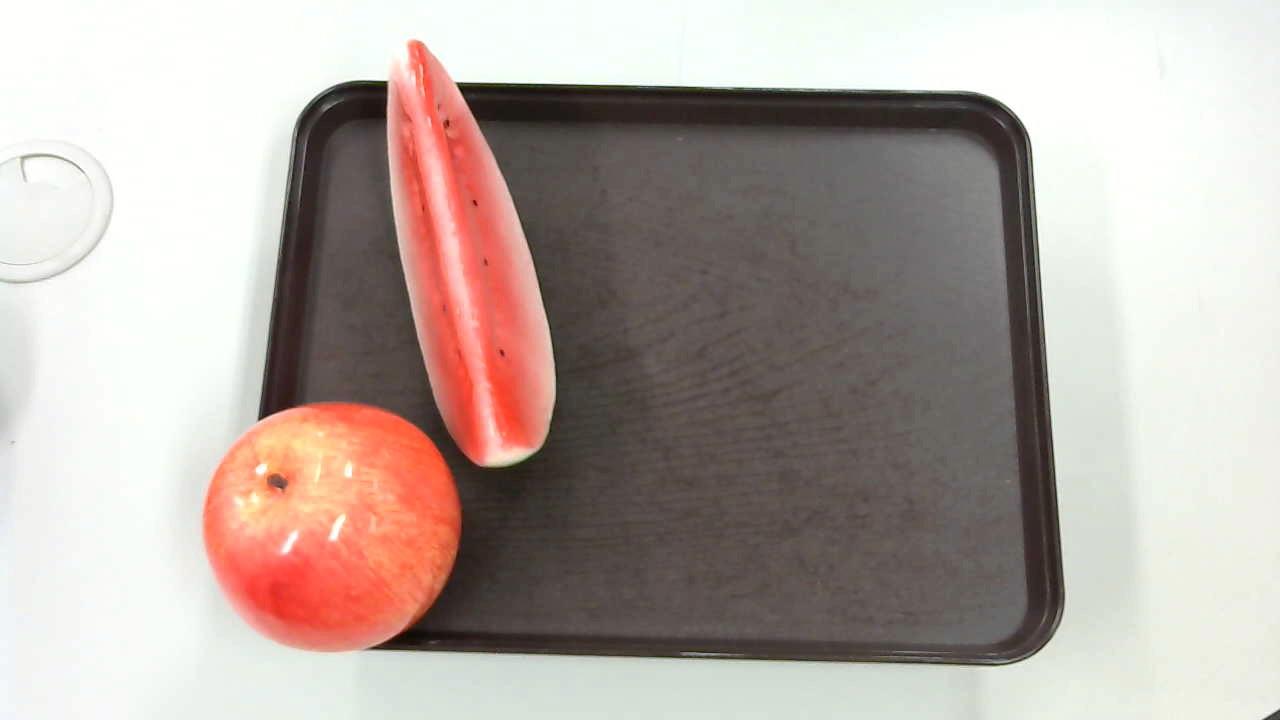red apple: (199, 400, 462, 649)
water melon: (379, 35, 563, 469)
